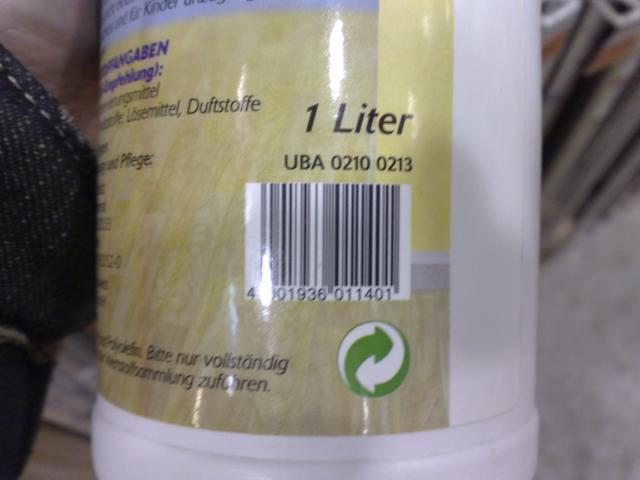Barkod: (258, 182, 400, 286)
